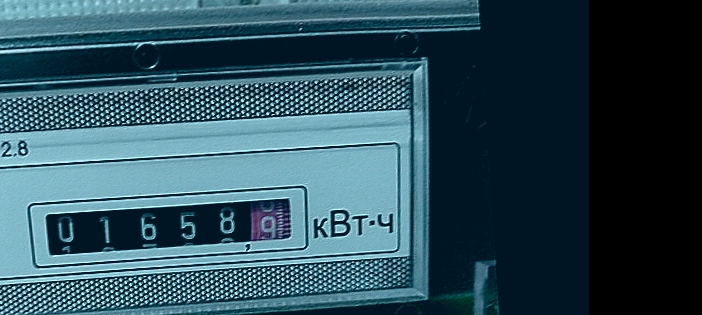0: (53, 211, 76, 244)
1: (97, 212, 112, 244)
5: (177, 208, 198, 241)
6: (137, 209, 159, 242)
8: (216, 203, 237, 236)
9: (257, 212, 276, 240)
screen: (19, 175, 314, 273)
